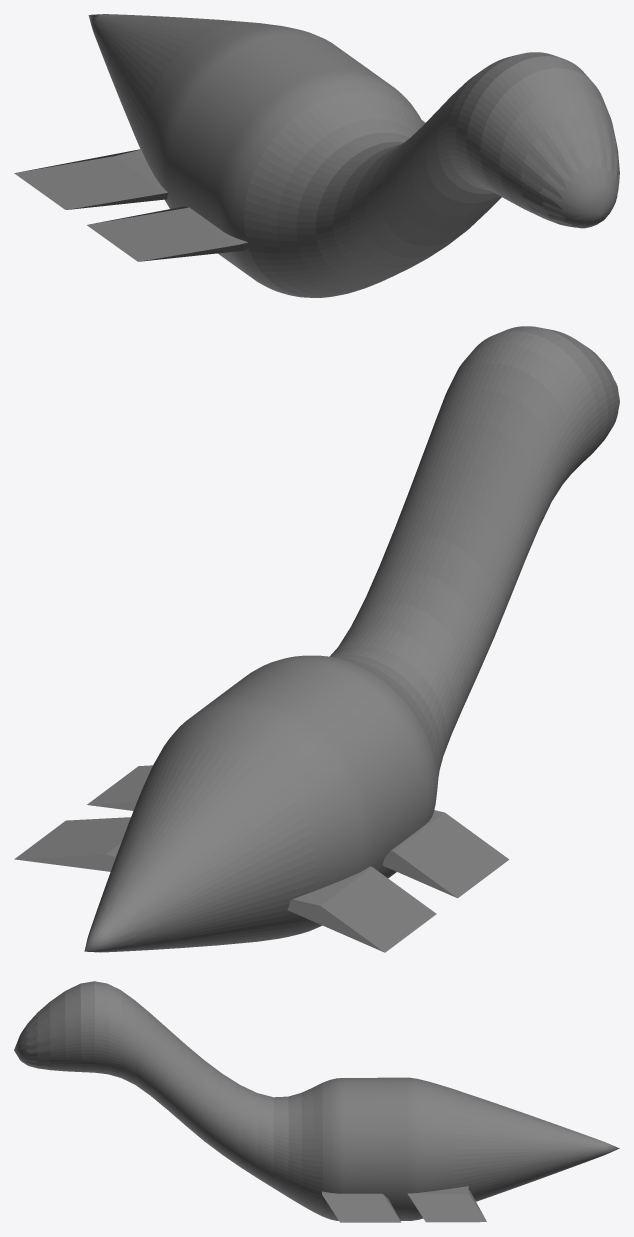
The model's file is Nessie.FBX.
The picture shows the model from 3 angles, top to bottom: view 1: azimuth 30°, elevation 25°; view 2: azimuth 150°, elevation 25°; view 3: azimuth 270°, elevation 25°; orthographic projection. The views are drawn at different scales.
Visible parts, largest first — view 1: Cylinder001, Box001, Box002; view 2: Cylinder001, Box001, Box002; view 3: Cylinder001, Box001, Box002.
Boxes of the visible parts, x1,y1,x2,y2 form: Cylinder001: (88,14,619,297); Box001: (14,120,425,209); Box002: (87,206,249,261); Cylinder001: (84,326,619,952); Box001: (14,817,436,952); Box002: (87,765,509,898); Cylinder001: (14,981,619,1220); Box001: (407,1186,486,1222); Box002: (322,1191,401,1222).
Bounding box in the file's own units: 101 × 243 × 102.
3 materials, 3 textured.
